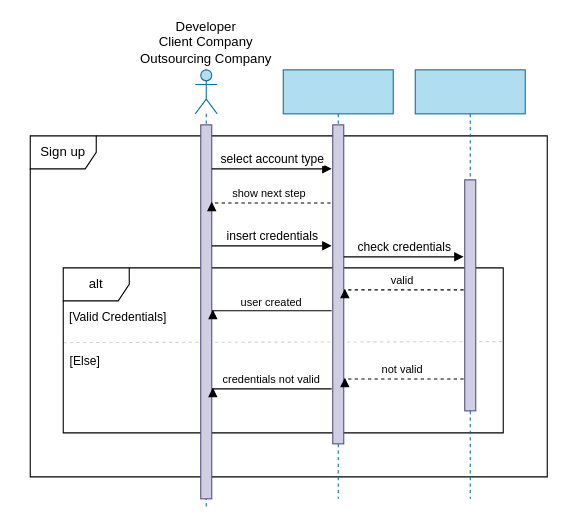
The diagram is 567 pixels wide and 529 high, and some of its shapes have lost their labels. Here are the shapes that lost their labels. From the top down, the box of each, then its label:
(282, 69, 393, 499): Interfaccia Sign up
(414, 69, 525, 499): Server
